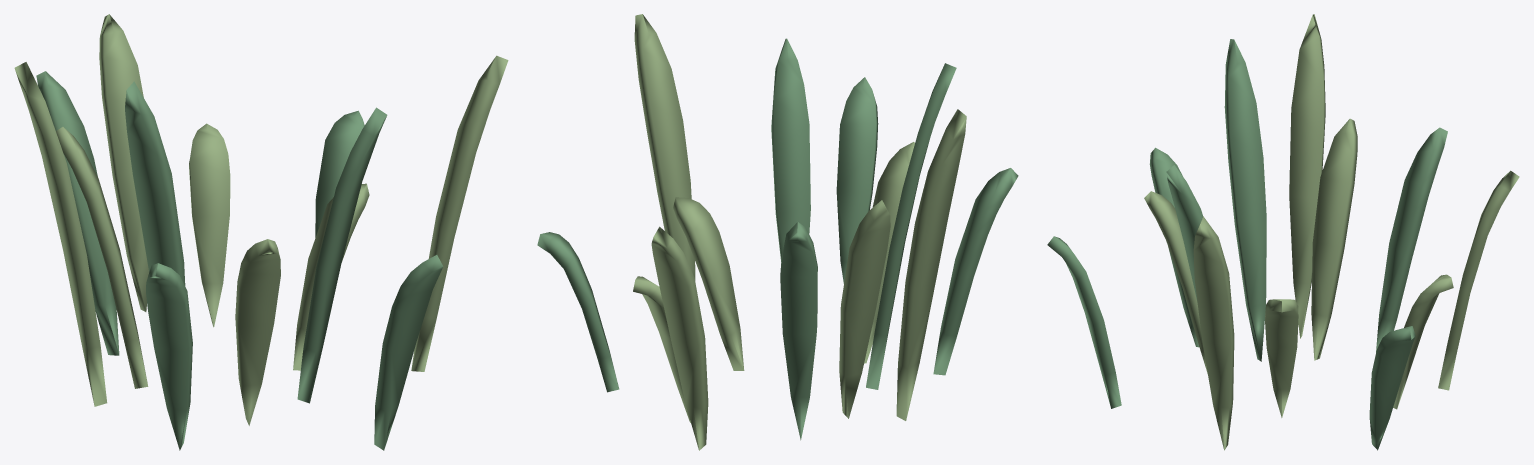
Rendered from reef_grass.glb.
3 views of the same model, side by side, from view 1: azimuth 30°, elevation 25°; view 2: azimuth 150°, elevation 25°; view 3: azimuth 270°, elevation 25° (orthographic). The views are drawn at different scales.
Parts seen in each view (by area): view 1: reef_grass_painted_mesh; view 2: reef_grass_painted_mesh; view 3: reef_grass_painted_mesh.
Boxes of the visible parts, box(x1,y1,x2,y2) form: reef_grass_painted_mesh: box(14, 14, 508, 450); reef_grass_painted_mesh: box(537, 14, 1018, 450); reef_grass_painted_mesh: box(1047, 14, 1519, 450).
Bounding box in the file's own units: 1.27 × 1.02 × 1.46.
